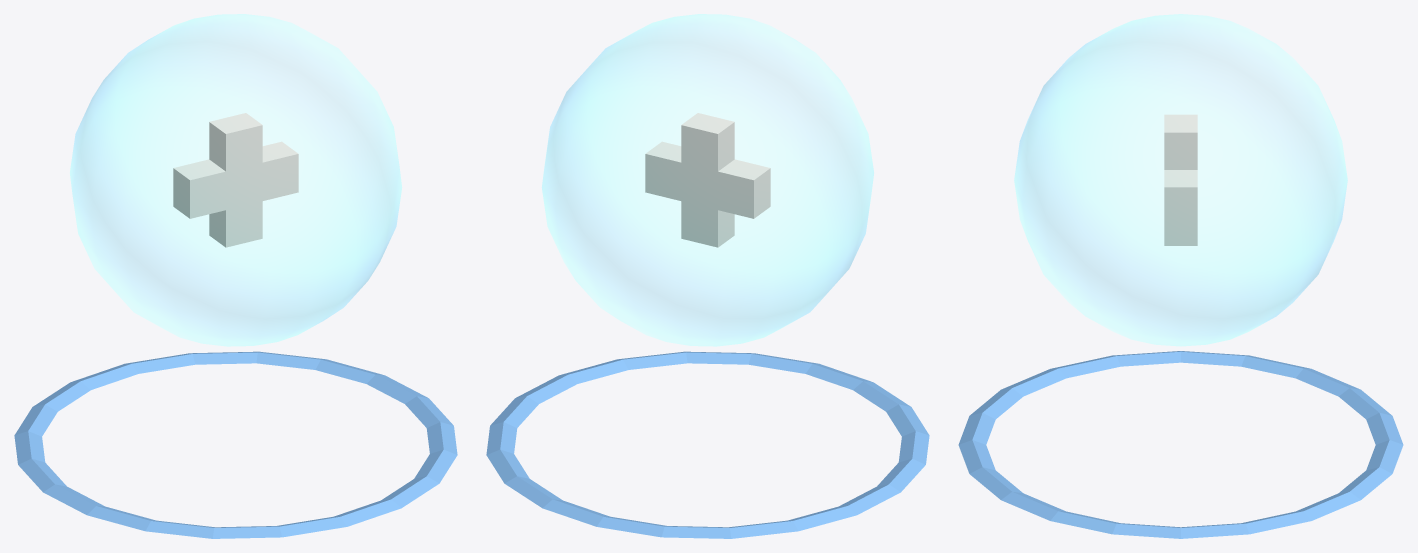
The model's file is pu_shield.glb.
The picture shows the model from 3 angles, left to right: view 1: azimuth 30°, elevation 25°; view 2: azimuth 150°, elevation 25°; view 3: azimuth 270°, elevation 25°; orthographic projection.
Visible parts, largest first — view 1: pu_shield; view 2: pu_shield; view 3: pu_shield.
Part boxes in pixels (x1,y1,x2,y2): pu_shield: (14,14,457,538); pu_shield: (486,14,929,538); pu_shield: (958,14,1403,538).
Bounding box in the file's own units: 1.6 × 1.67 × 1.6.
